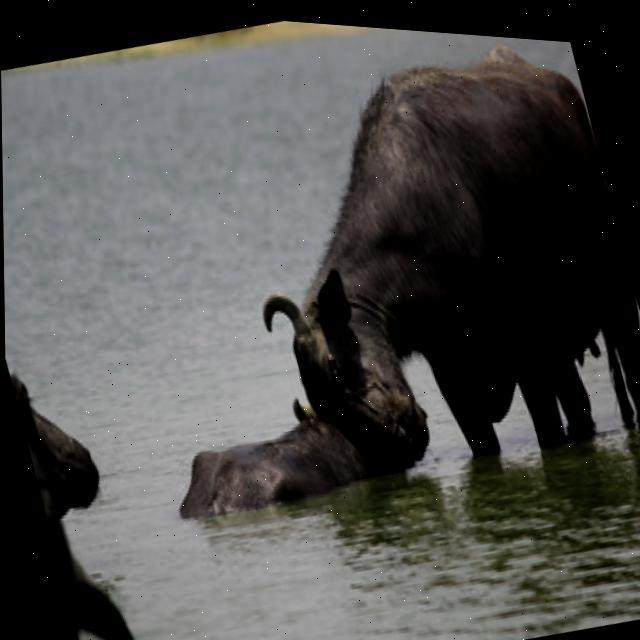Buffalo: (201, 15, 640, 516)
